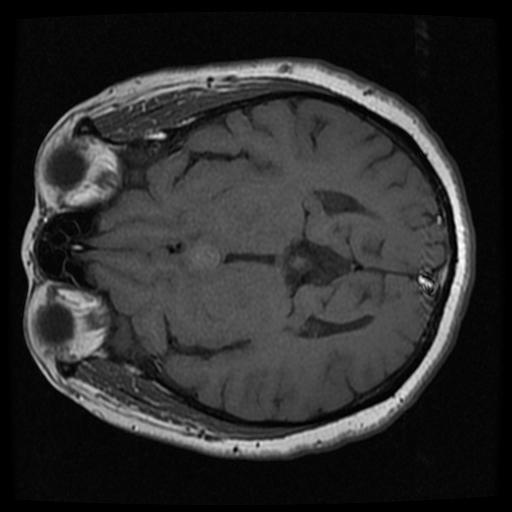pituitary tumour: (182, 239, 218, 277)
